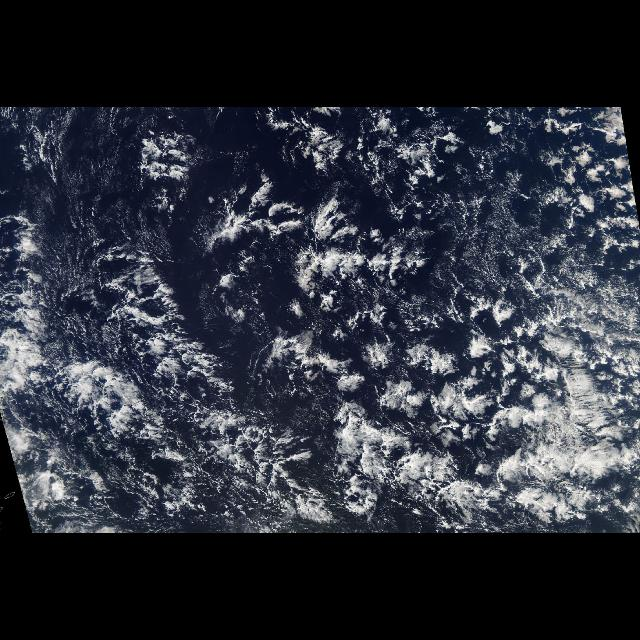Flower: (269, 112, 619, 500)
Sugar: (436, 158, 560, 324)
